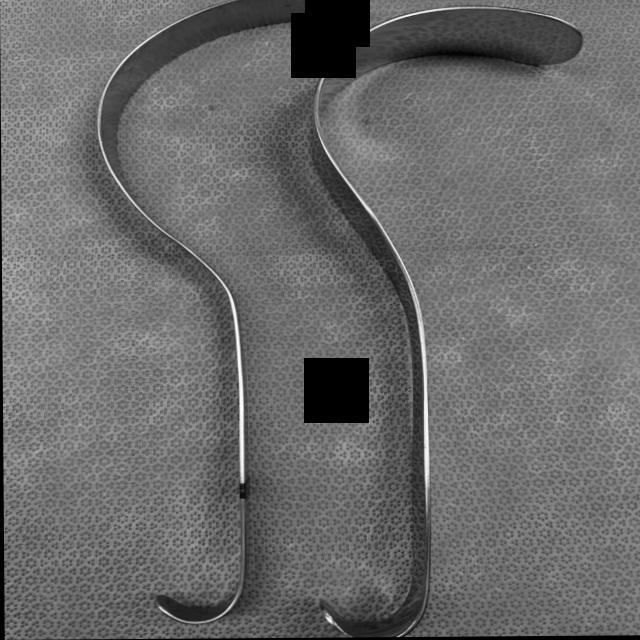Deaver Retractor: (288, 1, 600, 638), (82, 0, 376, 630)
